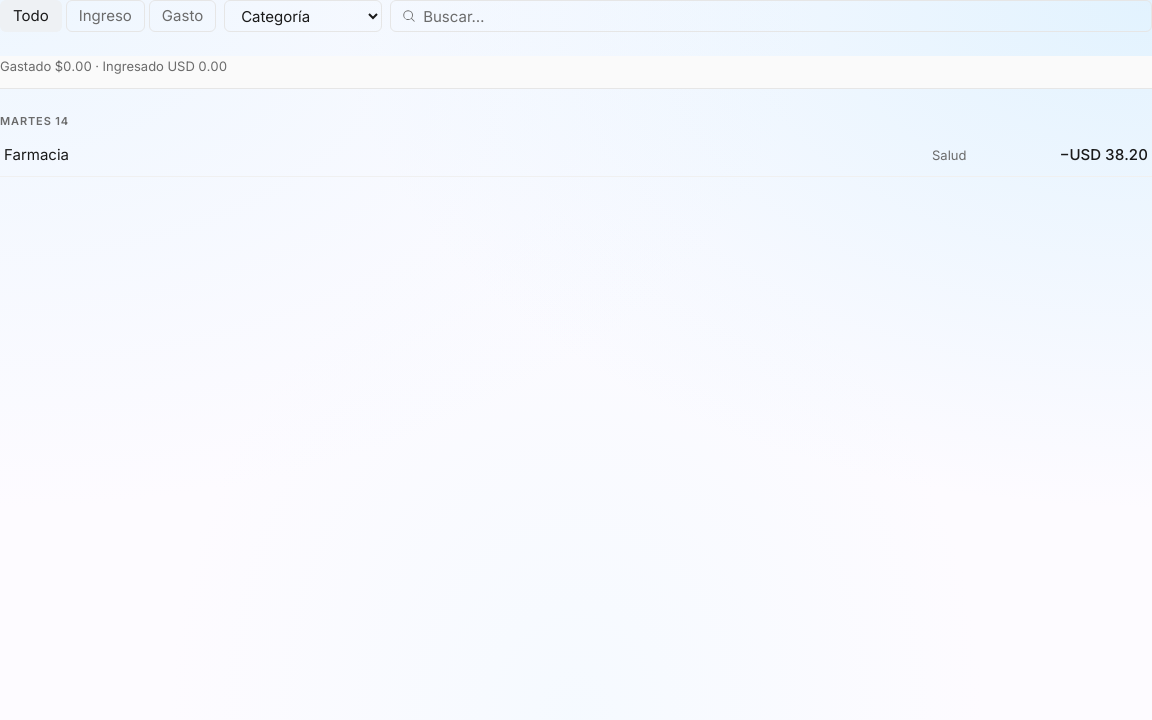
Scenario: Historial — Checkpoint IV-E.2: HojaDetalle en tablet/mobile (mismo expandedId, otra representación) › en tablet/mobile (isDesktop=false), expandir una fila NO la expande en línea — abre una HojaDetalle (Sheet)
Click the button "Farmacia Salud −USD 38.20".
click(36, 154)  # box x1=0 y1=133 x2=1151 y2=177
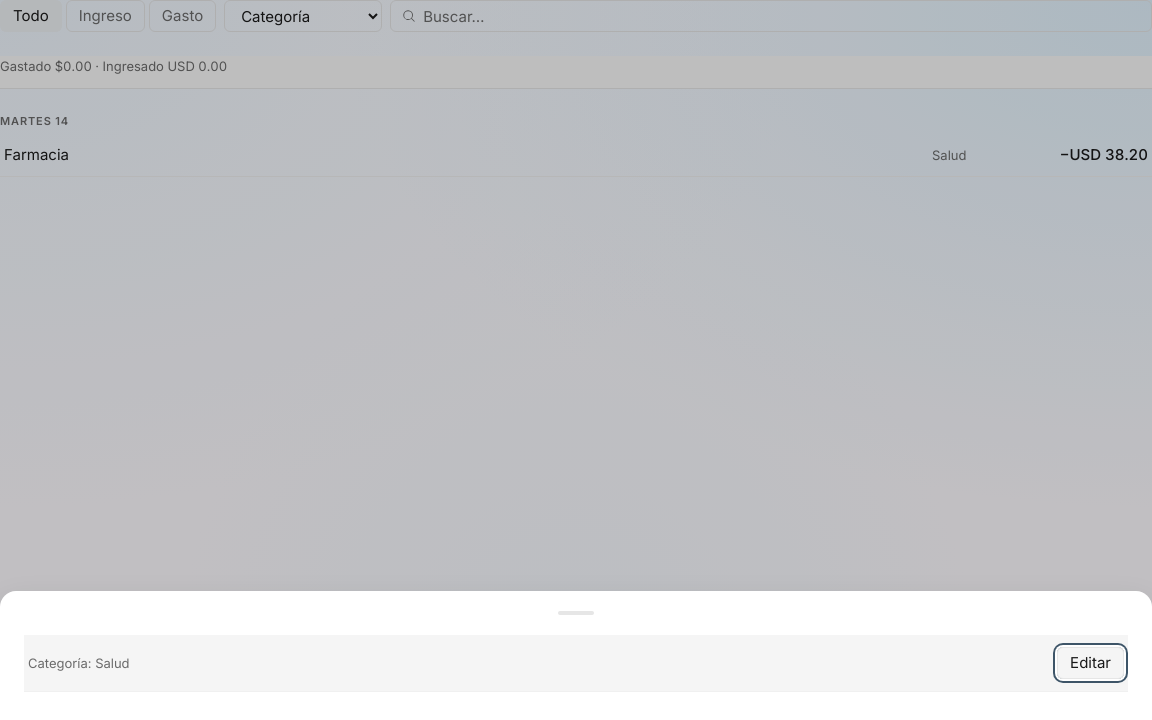
Now the dialog is shown, box x1=0 y1=591 x2=1151 y2=719
Now the text "Categoría: Salud" is shown, box x1=28 y1=653 x2=130 y2=673
Now the button "Editar" is shown, box x1=1057 y1=647 x2=1124 y2=679
